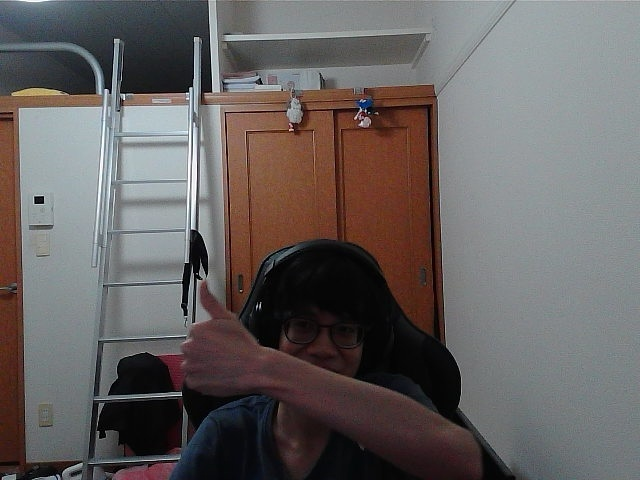thumb_up: (186, 285, 254, 384)
